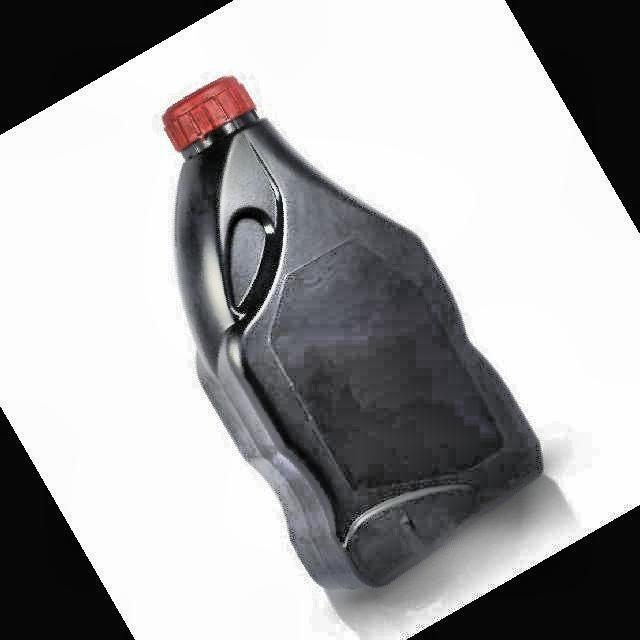plastic: (164, 78, 542, 588)
